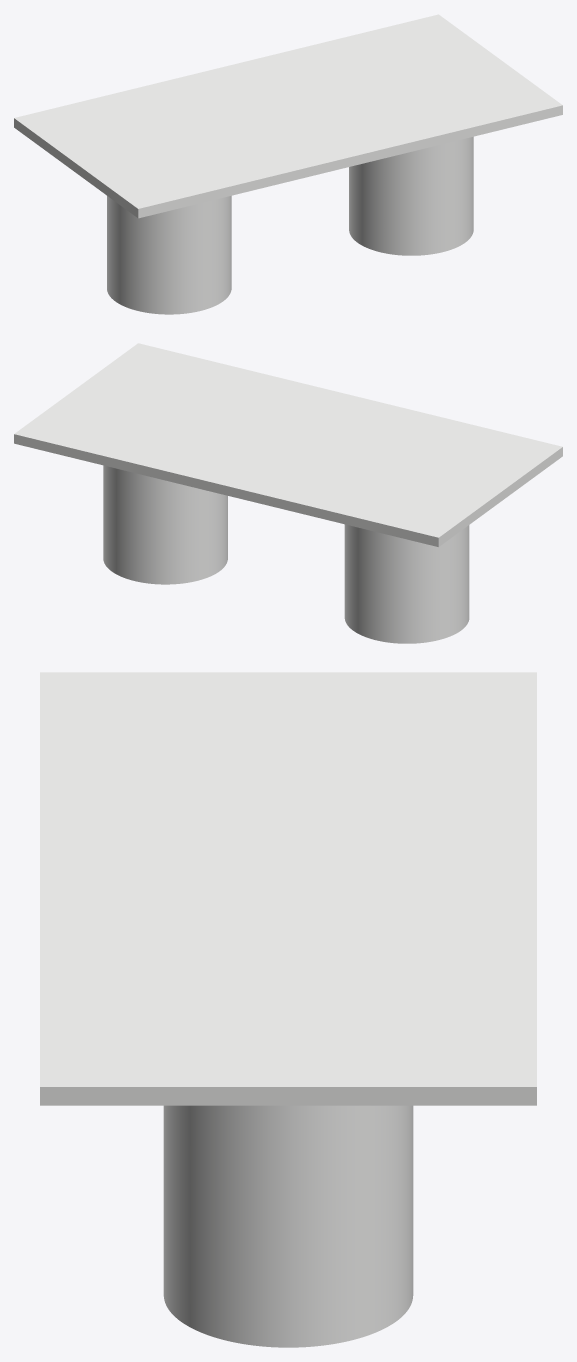
File: purewhite_recta_standard_stream.glb
3 views of the same model, one above another, from view 1: azimuth 30°, elevation 25°; view 2: azimuth 150°, elevation 25°; view 3: azimuth 270°, elevation 25° (orthographic). The views are drawn at different scales.
Visible parts, largest first — view 1: standard_recta, stream; view 2: standard_recta, stream; view 3: standard_recta, stream.
Part boxes in pixels (box(x1,y1,x2,y2)): standard_recta: box(14, 14, 562, 218); stream: box(107, 136, 473, 314); standard_recta: box(14, 343, 562, 547); stream: box(103, 465, 469, 643); standard_recta: box(40, 672, 536, 1105); stream: box(163, 1105, 413, 1347).
Bounding box in the file's own units: 7.5 × 2.49 × 3.8.
1 material, 1 textured.
